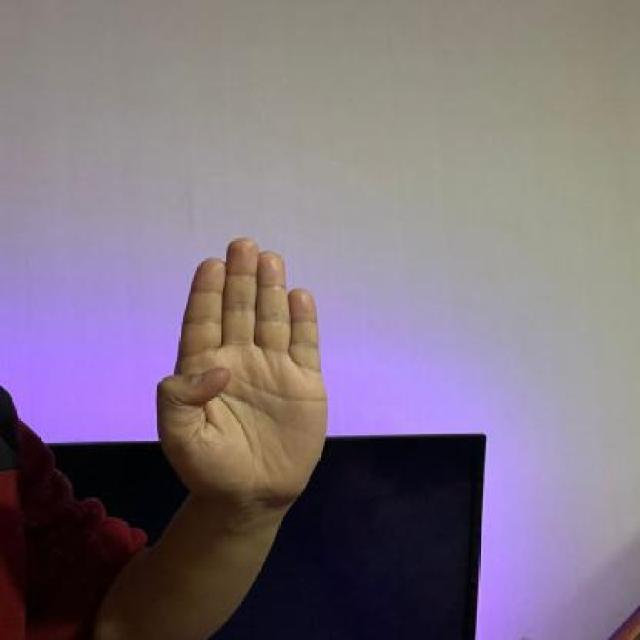B: (153, 230, 330, 502)
